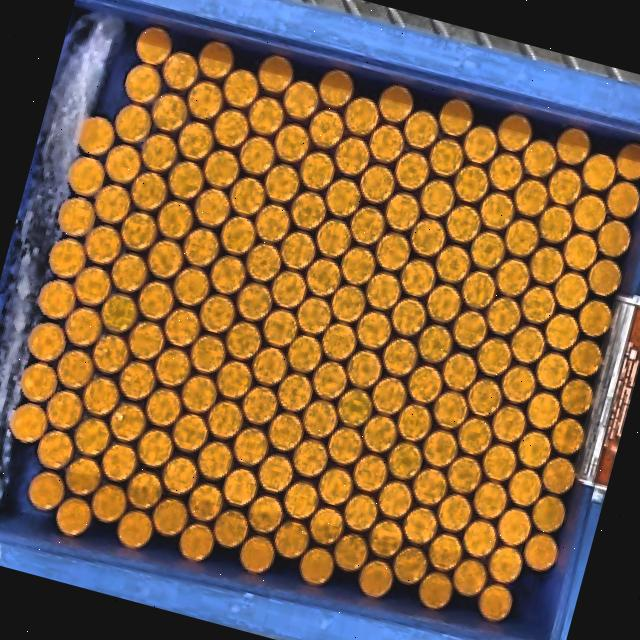vial: (44, 234, 86, 282), (5, 401, 48, 446), (193, 437, 236, 482), (34, 278, 76, 324), (474, 580, 516, 626), (50, 495, 91, 542), (156, 453, 198, 498), (63, 152, 104, 198), (520, 530, 561, 576), (110, 100, 152, 144), (102, 140, 142, 186), (292, 292, 332, 338), (34, 427, 74, 473), (70, 414, 110, 460), (180, 370, 218, 418), (132, 23, 173, 67), (74, 112, 114, 157), (80, 373, 120, 418), (82, 222, 121, 268), (323, 173, 361, 220), (26, 322, 68, 364), (118, 209, 158, 253), (248, 342, 288, 386), (136, 277, 176, 321), (219, 466, 259, 510), (379, 334, 418, 379), (358, 162, 396, 208), (114, 506, 152, 552), (62, 308, 103, 350), (194, 41, 234, 84), (538, 453, 578, 496), (92, 182, 131, 226), (401, 106, 440, 150), (55, 348, 94, 392), (90, 331, 128, 376), (108, 400, 146, 445), (121, 63, 162, 104), (192, 187, 232, 229), (256, 52, 296, 94), (324, 424, 364, 466), (18, 362, 57, 405), (150, 90, 188, 134), (238, 132, 276, 176), (502, 216, 540, 260), (488, 402, 526, 446), (420, 425, 458, 469), (370, 374, 408, 418), (436, 490, 474, 534), (74, 264, 112, 308), (63, 456, 101, 500), (180, 226, 220, 267), (548, 416, 588, 457), (302, 255, 341, 297), (234, 280, 273, 322), (392, 150, 431, 192), (144, 386, 183, 428), (185, 79, 223, 122), (282, 80, 320, 123), (306, 105, 344, 148), (341, 95, 379, 138), (367, 123, 405, 166), (126, 318, 164, 361), (118, 360, 156, 403), (214, 356, 252, 399), (450, 556, 488, 599), (198, 292, 235, 336), (342, 492, 379, 536), (212, 506, 249, 550), (352, 451, 388, 496), (274, 516, 310, 561), (530, 494, 570, 534), (227, 175, 266, 216), (125, 468, 164, 509), (140, 132, 178, 174), (274, 122, 312, 164), (208, 254, 246, 296), (400, 258, 438, 300), (478, 189, 516, 231), (520, 138, 558, 180), (514, 429, 552, 471), (346, 348, 384, 390), (276, 370, 314, 412), (280, 228, 316, 272), (136, 426, 172, 470), (417, 568, 453, 612), (487, 542, 523, 586), (155, 199, 193, 240), (317, 70, 355, 111), (377, 81, 415, 122), (495, 112, 533, 153), (443, 203, 481, 244), (518, 285, 556, 326), (320, 321, 358, 362), (290, 190, 327, 232), (313, 216, 350, 258), (338, 244, 375, 286), (360, 414, 397, 456), (462, 517, 499, 559), (232, 426, 269, 468), (257, 451, 294, 493), (282, 478, 319, 520), (237, 532, 274, 574), (356, 557, 393, 599), (162, 48, 198, 91), (537, 203, 573, 246), (302, 396, 338, 439), (152, 496, 188, 539), (337, 385, 372, 429), (178, 520, 213, 564), (55, 198, 93, 238), (218, 216, 256, 256), (254, 203, 292, 243), (348, 206, 386, 246), (172, 266, 210, 306), (382, 192, 420, 232), (435, 98, 473, 138), (486, 152, 524, 192), (446, 454, 484, 494), (469, 480, 507, 520), (460, 270, 497, 311), (416, 322, 453, 363), (441, 350, 478, 391), (385, 441, 422, 482), (46, 389, 83, 430), (163, 305, 200, 346), (391, 545, 428, 586), (203, 148, 239, 190), (147, 238, 183, 280), (110, 251, 146, 293), (374, 232, 410, 274), (452, 308, 488, 350), (512, 177, 548, 219), (553, 270, 589, 312), (544, 312, 580, 354), (500, 362, 536, 404), (242, 383, 278, 425), (100, 292, 136, 334), (292, 437, 328, 479), (248, 493, 284, 535), (317, 464, 353, 506), (307, 505, 343, 547), (176, 122, 214, 161), (411, 468, 449, 507), (213, 108, 250, 148), (247, 95, 284, 135), (245, 242, 282, 282), (364, 272, 401, 312), (409, 218, 446, 258), (558, 376, 595, 416), (496, 506, 533, 546), (298, 150, 334, 191), (266, 163, 302, 204), (528, 244, 564, 285), (131, 170, 166, 212), (269, 268, 304, 310), (461, 124, 496, 166), (581, 150, 616, 192), (262, 306, 297, 348), (173, 414, 208, 456), (207, 398, 242, 440), (377, 478, 412, 520), (334, 137, 372, 175), (555, 126, 592, 165), (484, 297, 521, 336), (395, 403, 432, 442), (167, 161, 203, 201), (428, 136, 464, 176), (418, 180, 454, 220), (469, 230, 505, 270), (434, 244, 470, 284), (425, 284, 461, 324), (547, 166, 583, 206), (494, 258, 530, 298), (562, 232, 598, 272), (596, 219, 632, 259), (475, 338, 511, 378), (524, 389, 560, 429), (455, 416, 491, 456), (432, 387, 468, 427), (28, 469, 64, 509), (154, 346, 190, 386), (188, 333, 224, 373), (268, 412, 304, 452), (187, 480, 223, 520), (605, 180, 640, 221), (314, 359, 349, 400), (565, 340, 603, 377), (578, 301, 614, 340), (90, 483, 126, 522), (467, 376, 502, 416), (102, 444, 137, 484), (403, 505, 438, 545), (427, 530, 462, 570), (226, 321, 260, 362), (329, 285, 366, 322), (300, 546, 336, 584), (482, 444, 517, 483), (224, 68, 258, 108), (572, 194, 606, 234), (511, 324, 545, 364), (536, 350, 570, 390), (506, 468, 540, 508), (408, 363, 442, 403), (390, 298, 427, 334), (333, 532, 368, 570), (368, 519, 402, 558), (357, 311, 392, 348), (454, 164, 488, 202), (588, 260, 622, 298), (285, 337, 321, 372), (613, 142, 640, 182)
